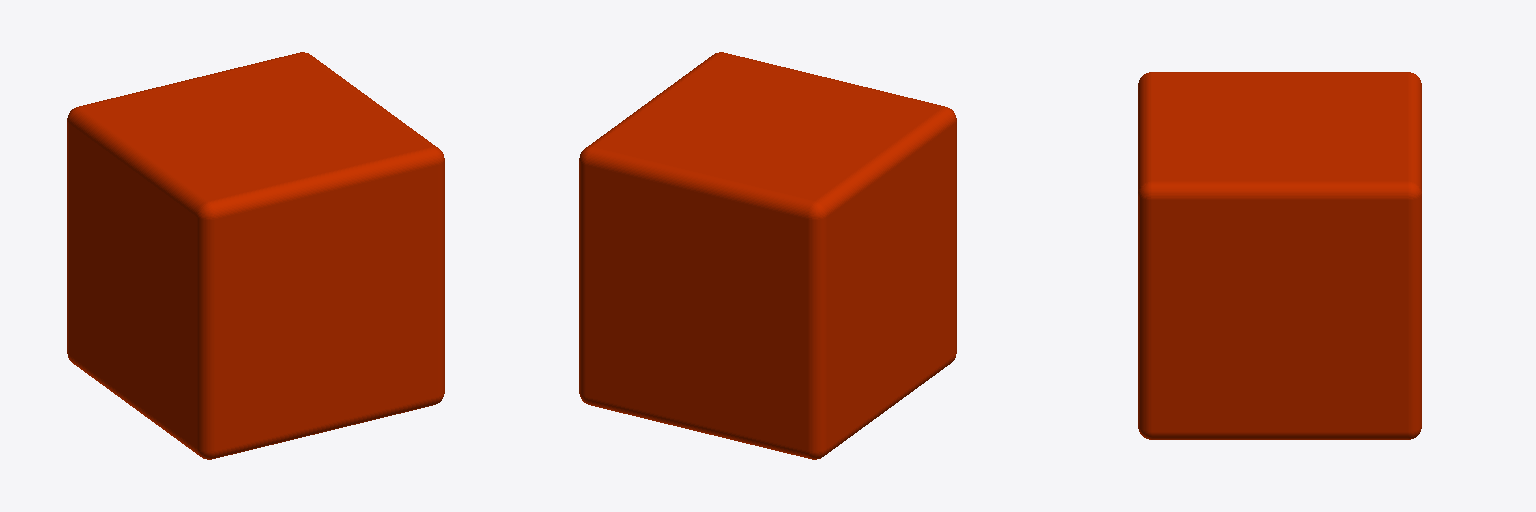
3 renders of one model, left to right at view 1: azimuth 30°, elevation 25°; view 2: azimuth 150°, elevation 25°; view 3: azimuth 270°, elevation 25°, orthographic.
Parts seen in each view (by area): view 1: Cube_立方体; view 2: Cube_立方体; view 3: Cube_立方体.
Part boxes in pixels (left/top/right/bottom): Cube_立方体: left=67, top=52, right=444, bottom=459; Cube_立方体: left=579, top=52, right=956, bottom=459; Cube_立方体: left=1138, top=72, right=1421, bottom=439.
Bounding box in the file's own units: 0.16 × 0.16 × 0.16.